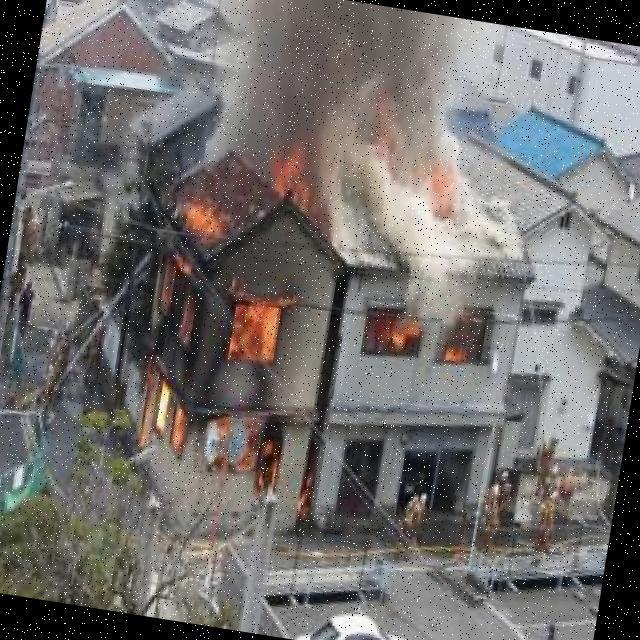Fire: (127, 143, 323, 484), (366, 297, 490, 372)
